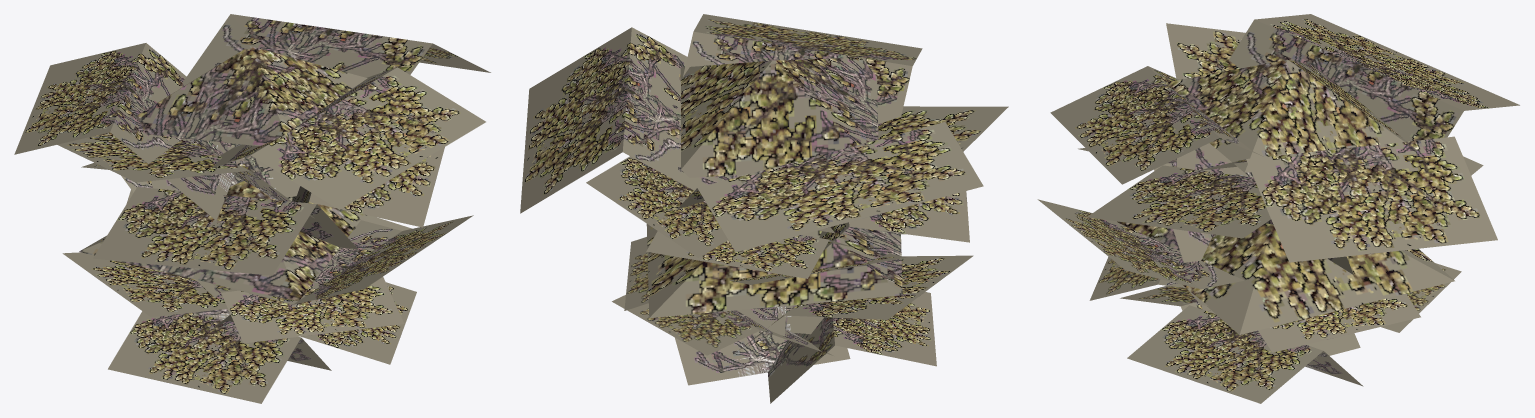
Rendered from flora_tree_bush_mediterranean_dry.glb.
3 views of the same model, side by side, from view 1: azimuth 30°, elevation 25°; view 2: azimuth 150°, elevation 25°; view 3: azimuth 270°, elevation 25° (orthographic).
Parts seen in each view (by area): view 1: flora_tree_bush_mediterranean_dry_part0; view 2: flora_tree_bush_mediterranean_dry_part0; view 3: flora_tree_bush_mediterranean_dry_part0.
Part boxes in pixels (bbox=[...]): flora_tree_bush_mediterranean_dry_part0: bbox=[14, 14, 490, 403]; flora_tree_bush_mediterranean_dry_part0: bbox=[520, 14, 1008, 403]; flora_tree_bush_mediterranean_dry_part0: bbox=[1037, 14, 1519, 403].
Size of the model in its own units: 4.58 by 2.89 by 4.16.
1 material, 1 textured.
